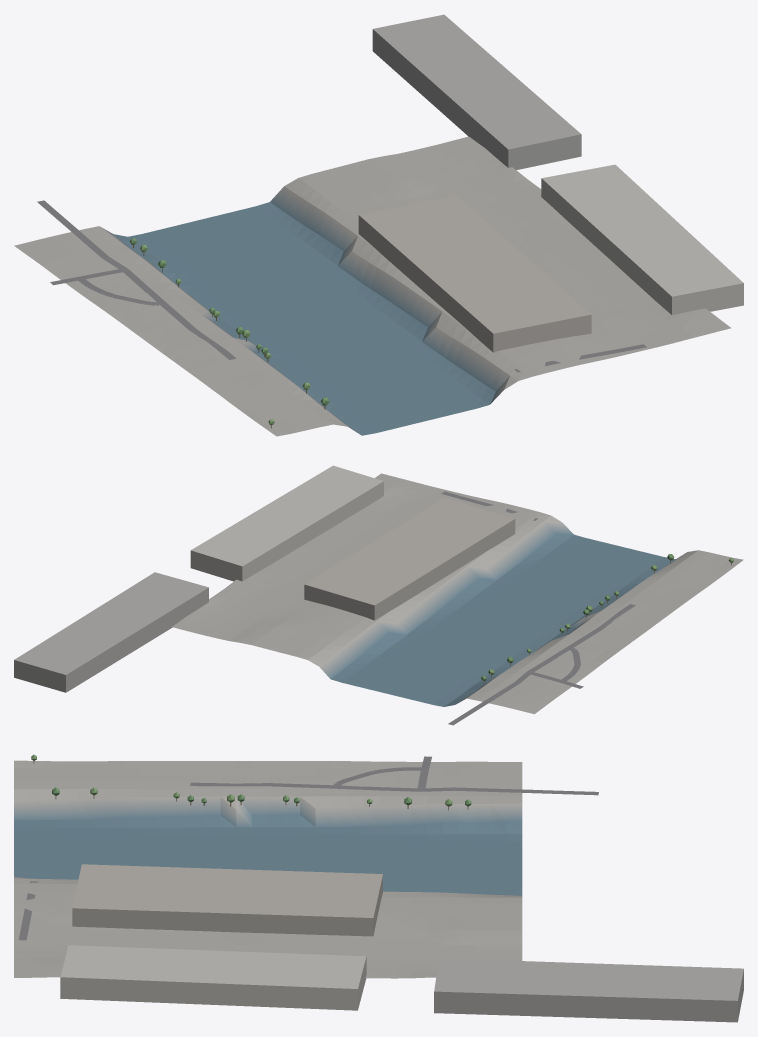
File: tile_1_3.glb
The picture shows the model from 3 angles, top to bottom: view 1: azimuth 30°, elevation 25°; view 2: azimuth 150°, elevation 25°; view 3: azimuth 270°, elevation 25°; orthographic projection. The views are drawn at different scales.
Parts seen in each view (by area): view 1: terrain, buildings, roads, props; view 2: terrain, buildings, roads, props; view 3: terrain, buildings, roads, props.
Part boxes in pixels (x1,y1,x2,y2): terrain: (14,136,731,436); buildings: (358,14,743,352); roads: (37,200,646,372); props: (129,238,329,428); terrain: (172,473,743,714); buildings: (14,465,515,692); roads: (441,491,635,725); props: (481,554,733,683); terrain: (14,760,522,978); buildings: (60,864,743,1022); roads: (18,756,598,940); props: (31,754,471,810).
Bounding box in the file's own units: 311 × 19.95 × 368.
